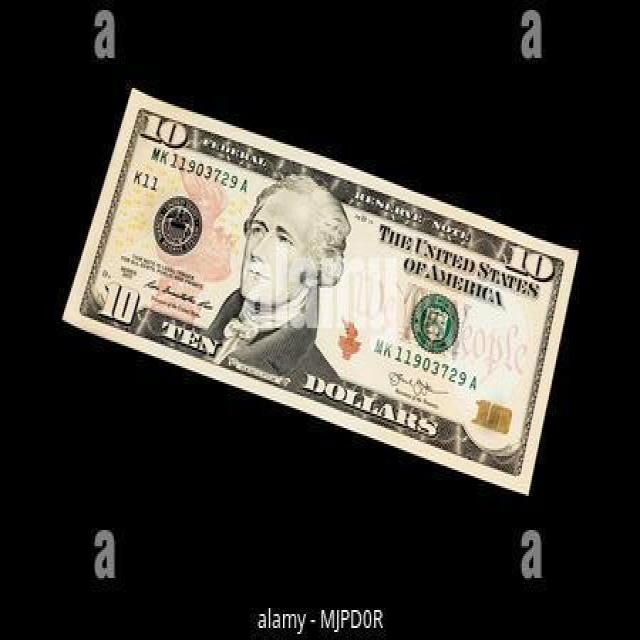10-Front: (60, 90, 579, 506)
